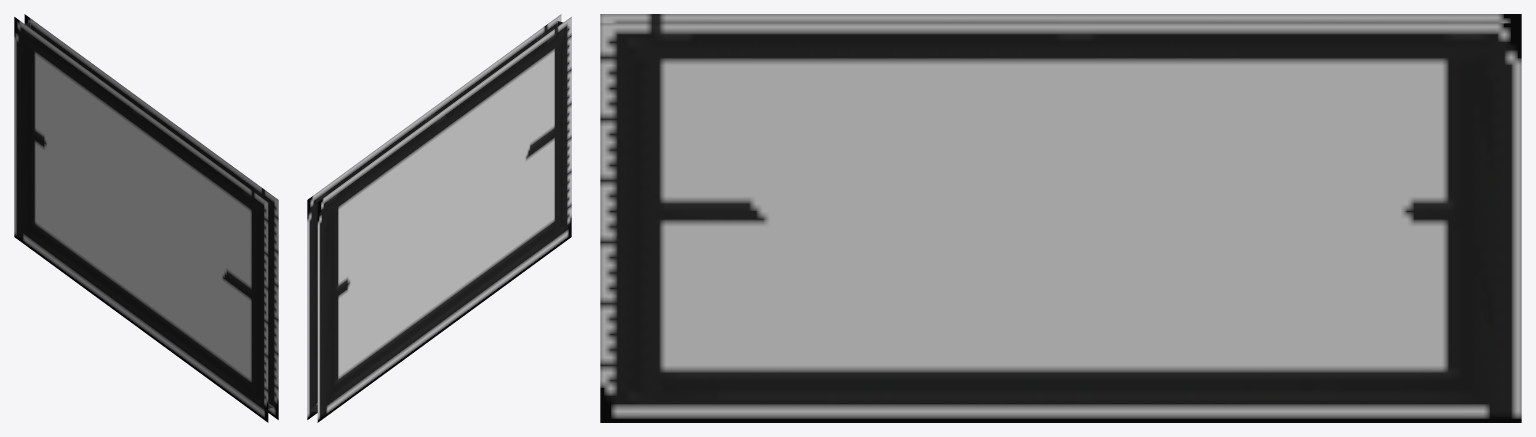
File: pz_native_fixtures_windows_metal_100_frame.obj
3 views of the same model, side by side, from view 1: azimuth 30°, elevation 25°; view 2: azimuth 150°, elevation 25°; view 3: azimuth 270°, elevation 25° (orthographic). The views are drawn at different scales.
Visible parts, largest first — view 1: pz_native_fixtures_windows_metal_100_frame; view 2: pz_native_fixtures_windows_metal_100_frame; view 3: pz_native_fixtures_windows_metal_100_frame.
Boxes of the visible parts, x1,y1,x2,y2 form: pz_native_fixtures_windows_metal_100_frame: [14, 14, 278, 422]; pz_native_fixtures_windows_metal_100_frame: [307, 14, 571, 422]; pz_native_fixtures_windows_metal_100_frame: [600, 14, 1521, 422].
Bounding box in the file's own units: 0.04 × 0.8125 × 1.7.
Materials: 1 (1 with a texture image).
